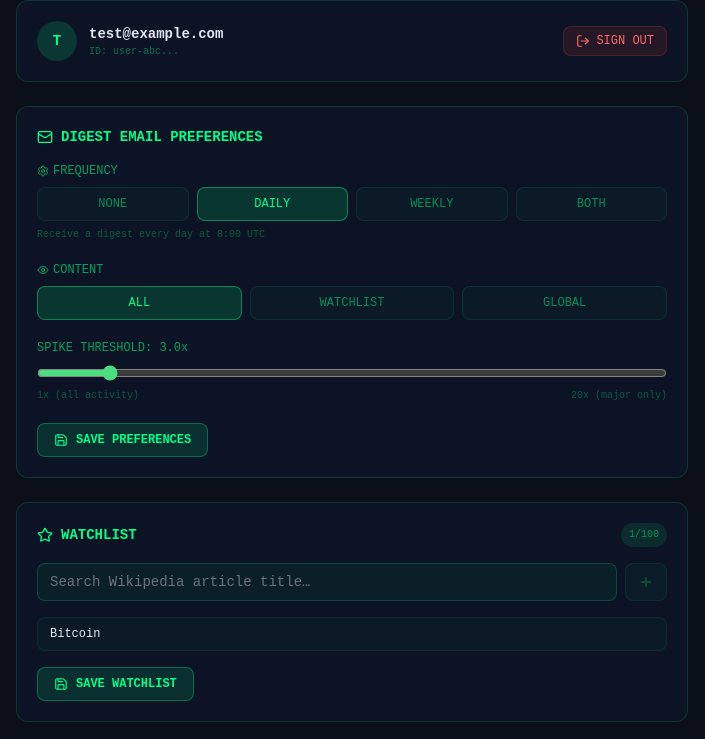
SettingsPanel – watchlist autocomplete › shows "already added" label for watchlisted suggestions
The image size is (705, 739).
Type "Bit" into the field with placeholder "Search Wikipedia article title…". click: (327, 582)
box: [37,563,617,601]
Wait 300 ms
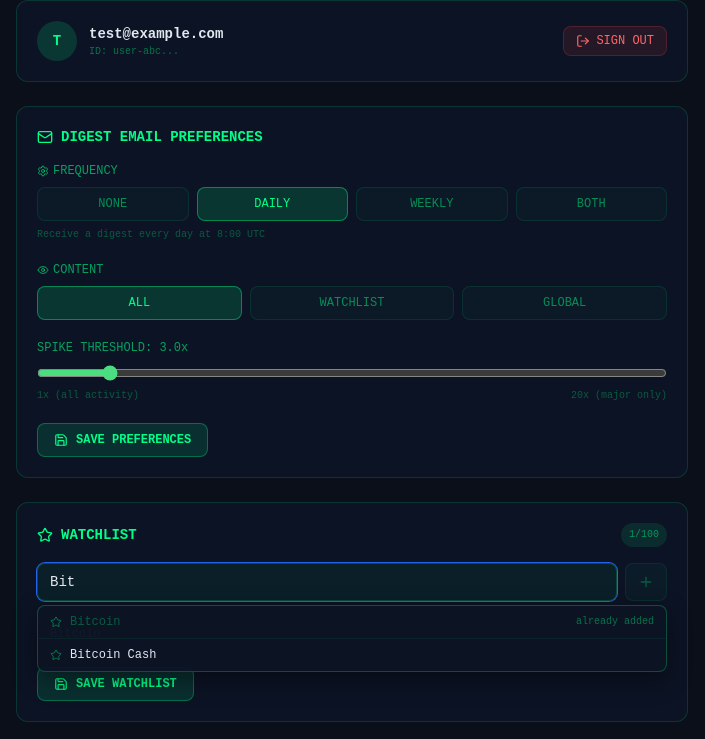
Now the text "already added" is shown once, box [576,614,654,630]
